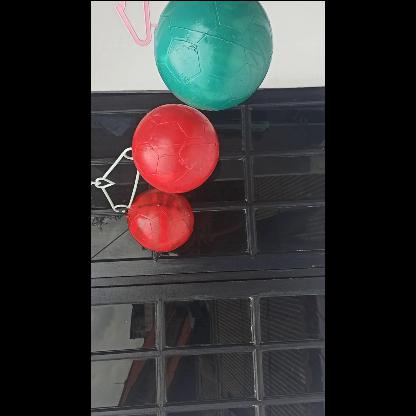red_ball: (131, 106, 216, 190)
